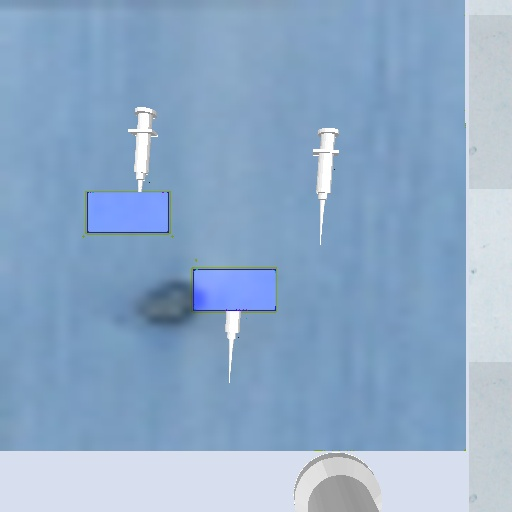jeringuilla: (306, 122, 346, 250), (122, 102, 163, 192), (218, 310, 246, 388)
